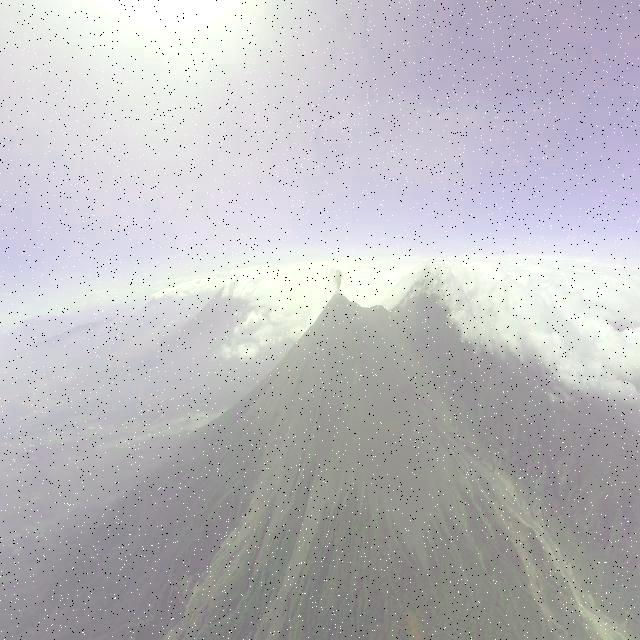Plume: (328, 266, 343, 292)
Summit: (314, 292, 361, 322)
